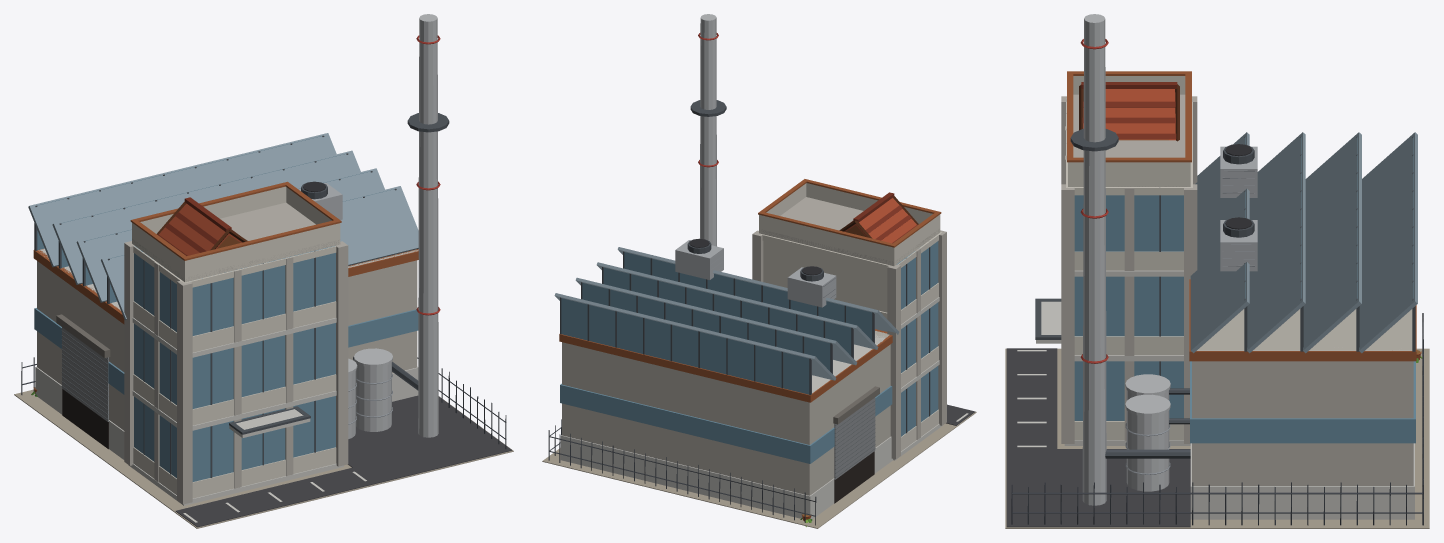
File: factory_3.glb
The picture shows the model from 3 angles, left to right: view 1: azimuth 30°, elevation 25°; view 2: azimuth 150°, elevation 25°; view 3: azimuth 270°, elevation 25°; orthographic projection. The views are drawn at different scales.
Parts seen in each view (by area): view 1: body, windows; view 2: body, windows; view 3: body.
Part boxes in pixels (box(x1,y1,x2,y2)): body: box(14, 14, 513, 528); windows: box(62, 389, 108, 449); body: box(542, 14, 976, 528); windows: box(834, 451, 874, 503); body: box(1005, 14, 1429, 528).
Bounding box in the file's own units: 15.9 × 20.29 × 15.9.
